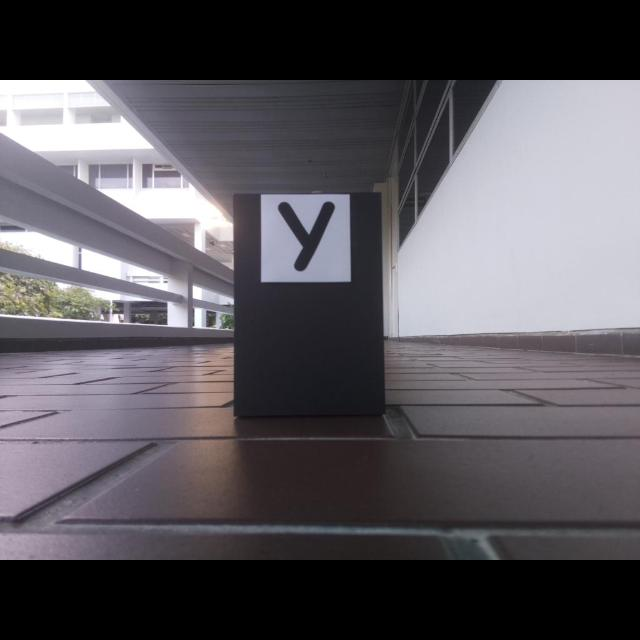Y: (278, 202, 335, 271)
